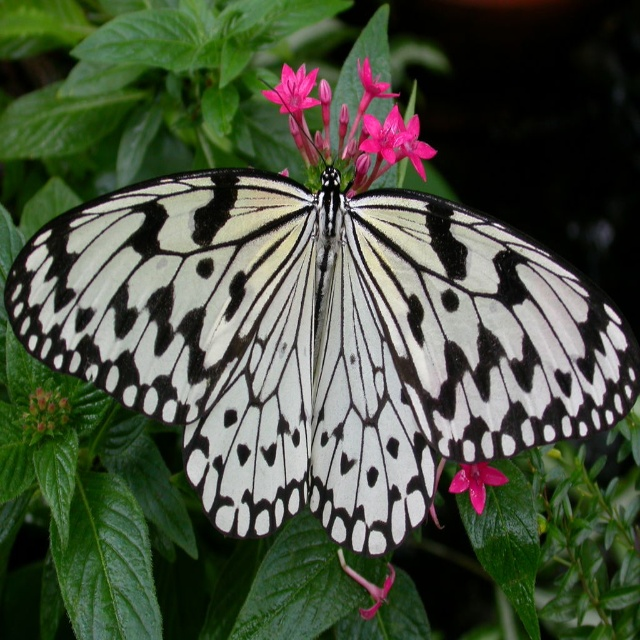Butterfly: (2, 75, 640, 557)
